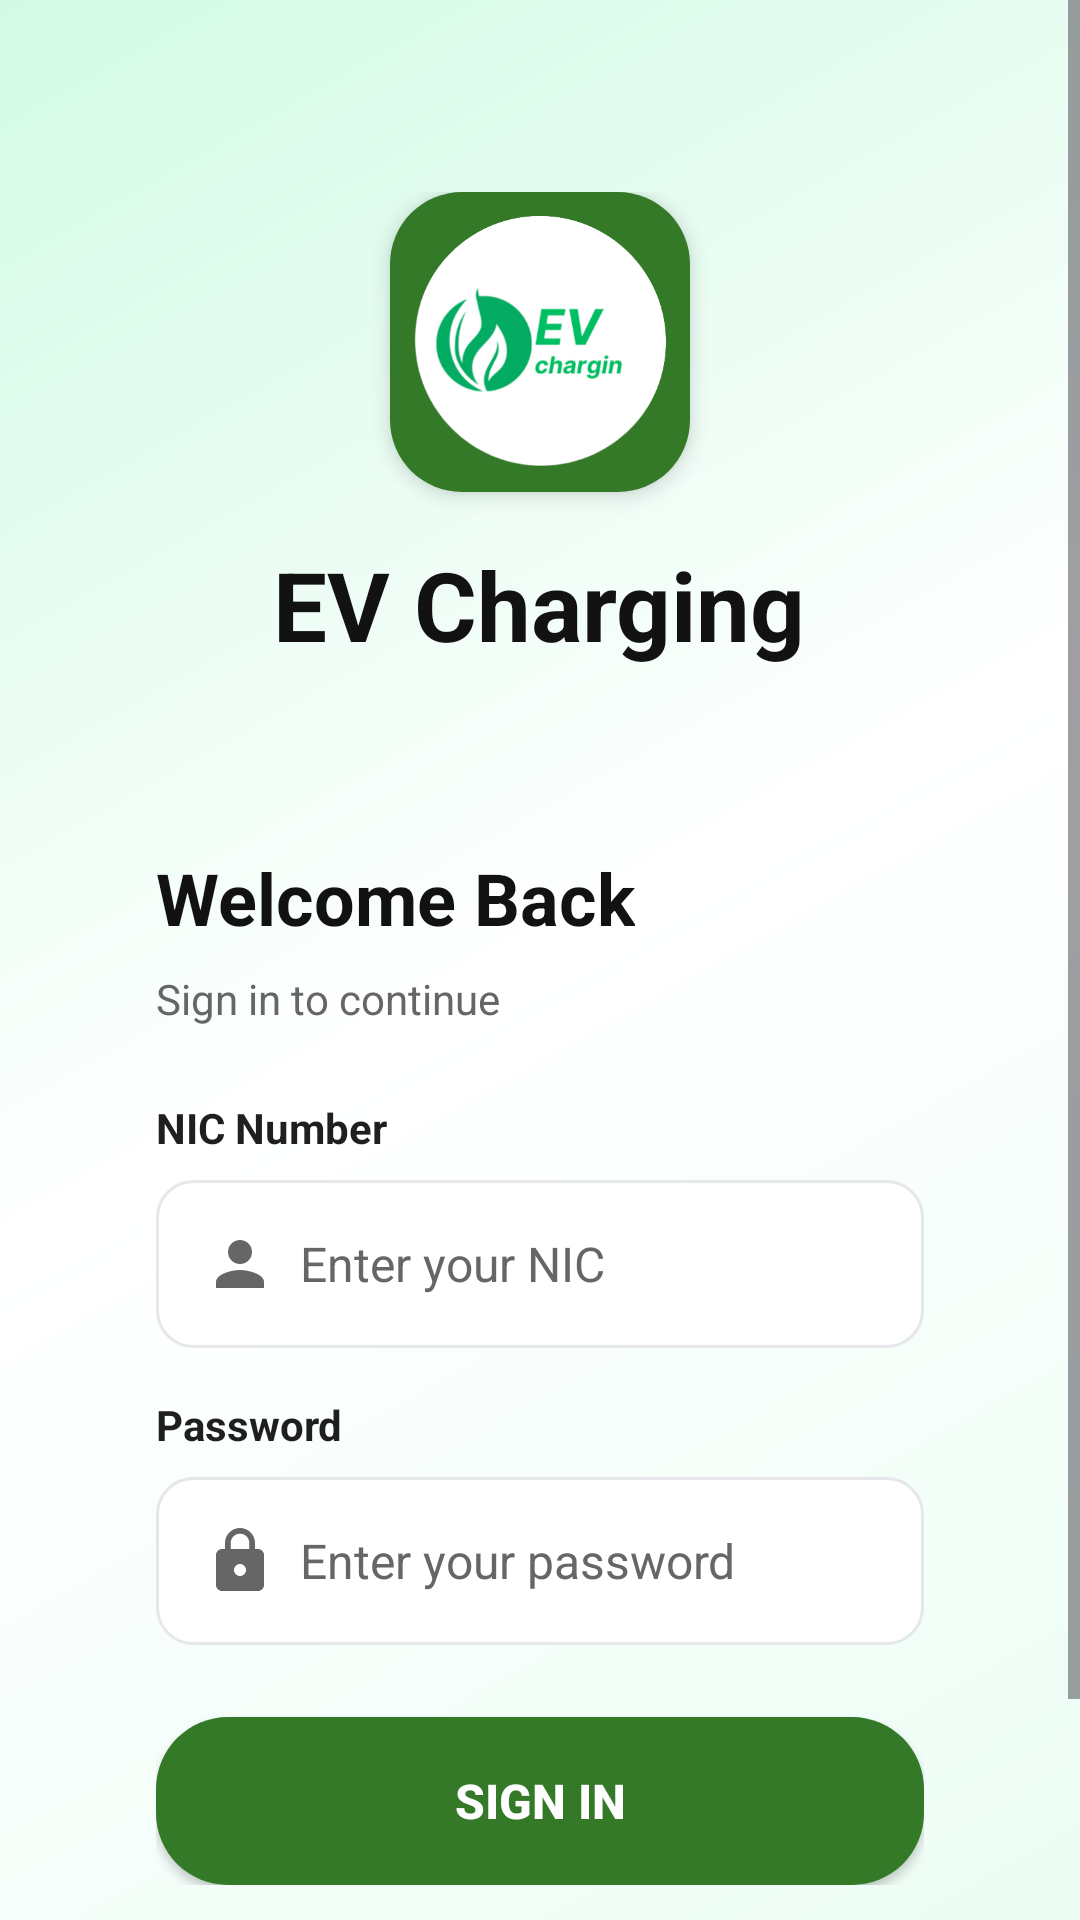

Icon bounding boxes for this 1080*1920 phone screenshot, format (x1, y1, x2, y2):
lock: (216, 1528, 264, 1591)
person: (216, 1240, 264, 1288)
